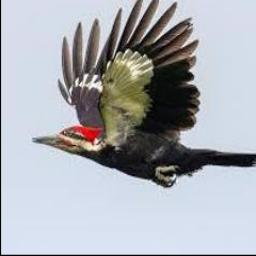Woodpecker: (30, 0, 256, 188)
